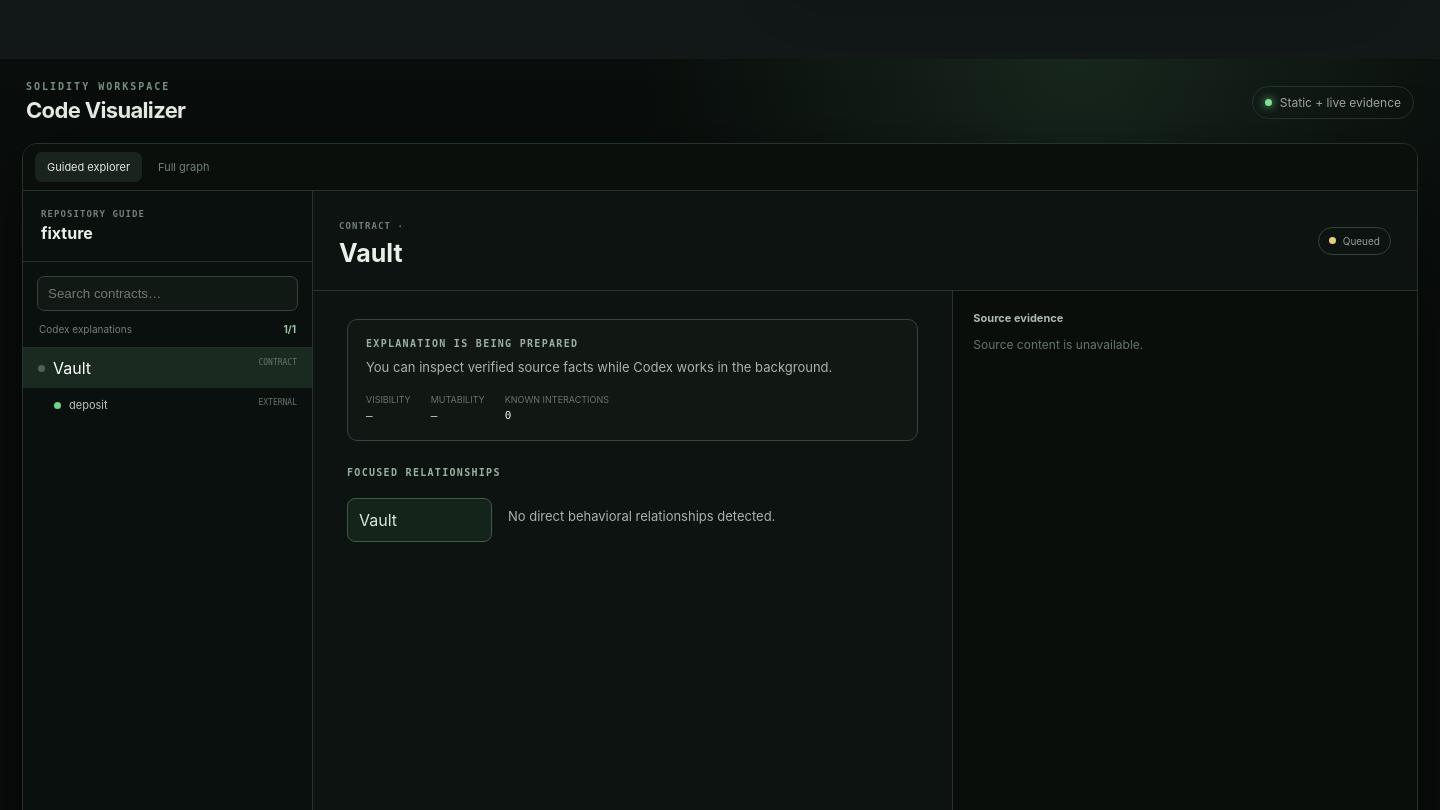
repository graph › guides newcomers through a grounded Codex function explanation
(page scrolled)
Click the button named "depositexternal" at {"x": 88, "y": 405}, box [23,388,312,422]
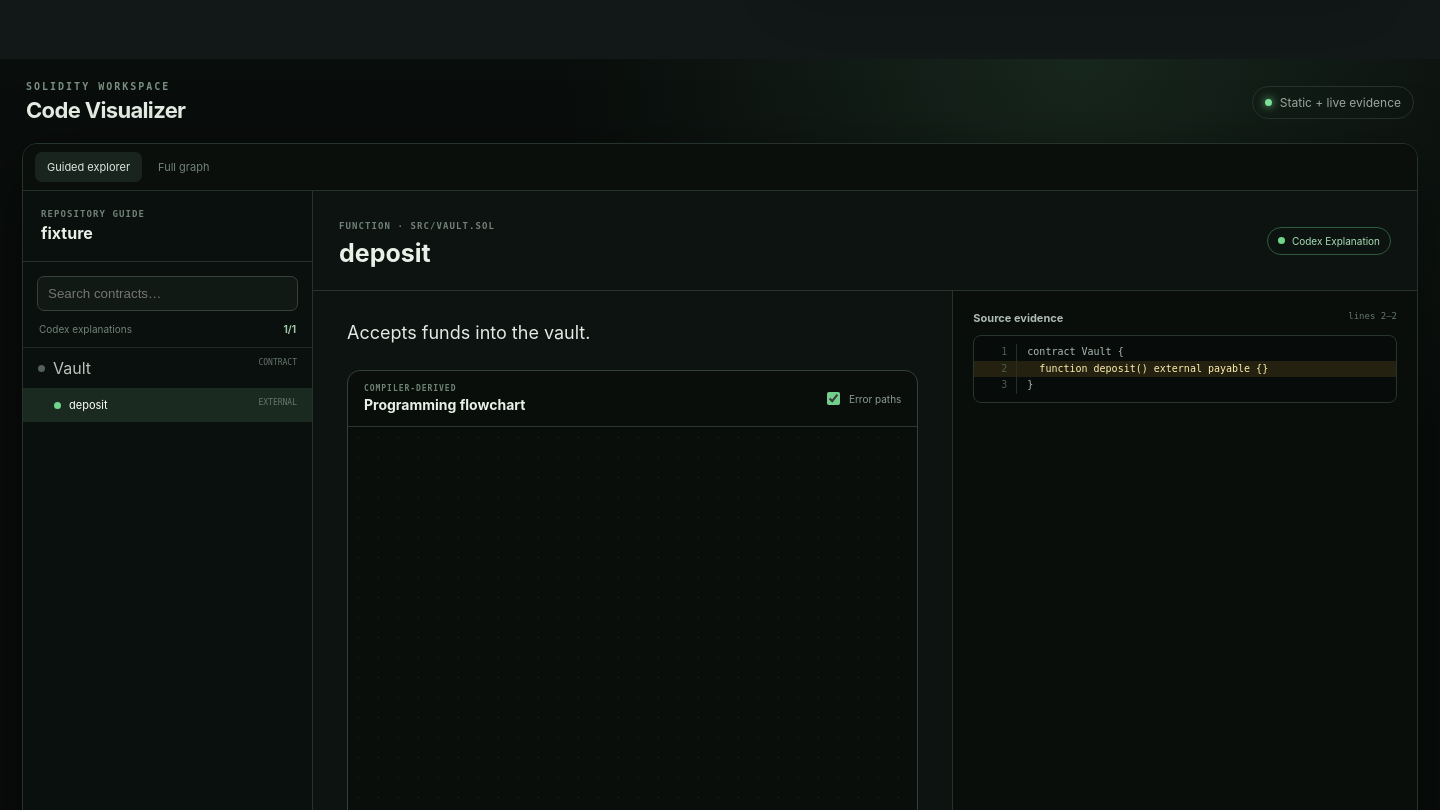
Expected: the text "Accepts funds into the vault." is shown, [347,322,590,343]
